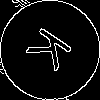K: (25, 25, 82, 78)
